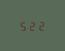five: (18, 20, 26, 31)
two: (37, 19, 45, 30), (28, 20, 36, 30)
